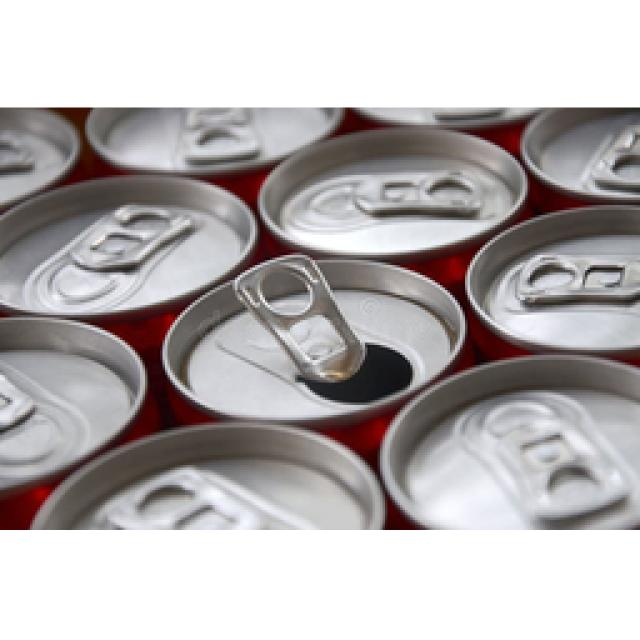aluminum_soda_cans: (165, 238, 478, 430)
